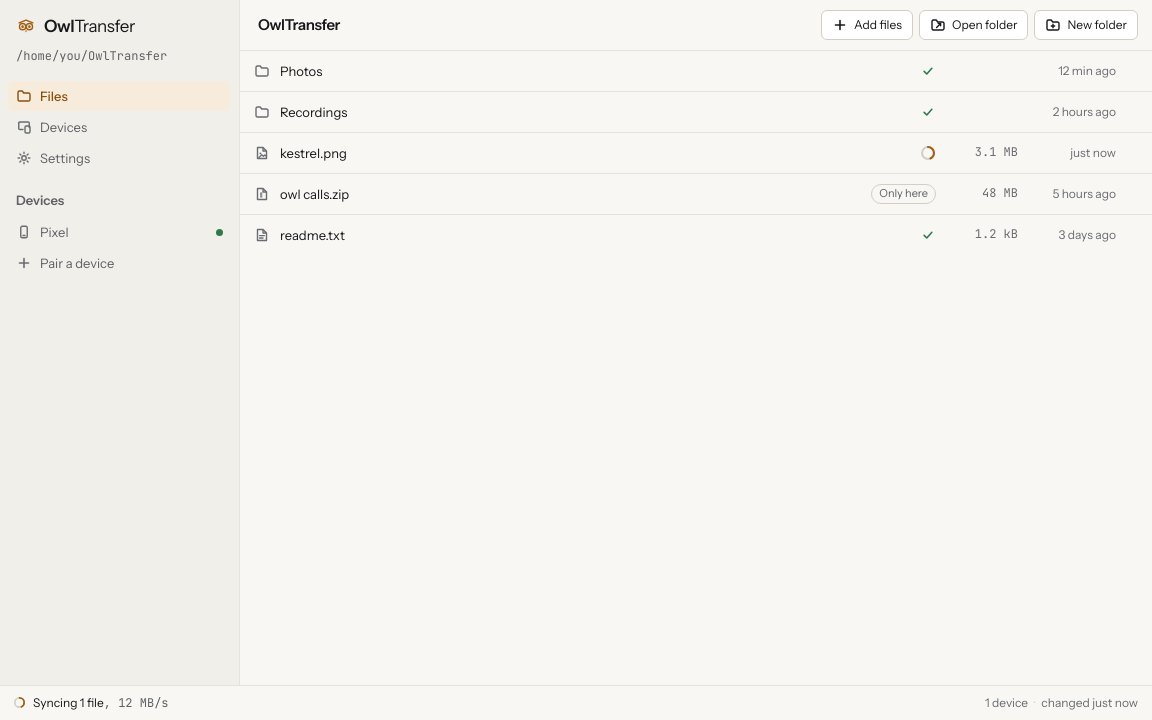
it: the settings pane › puts an emptied name back rather than saving nothing
The width and height of the screenshot is (1152, 720).
Click the button "Settings". click: (120, 158)
box: [8, 143, 231, 173]
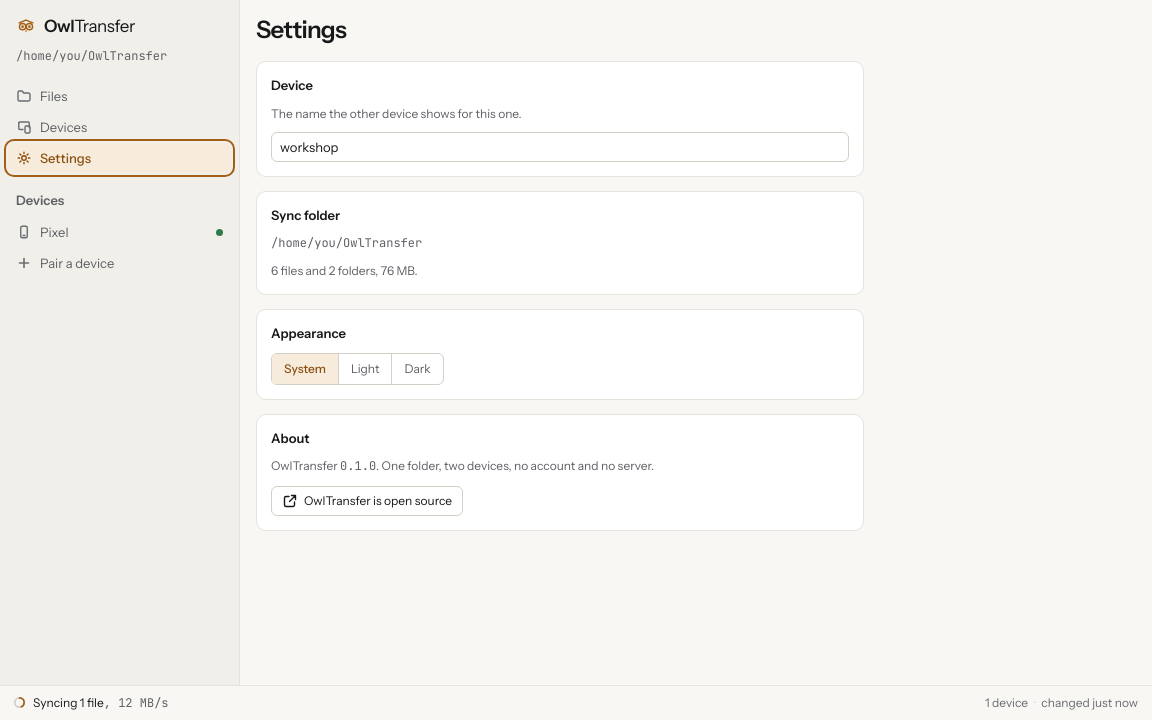
expect the heading "Settings" is shown: met, box [256, 15, 346, 44]
Clear the field named "Device name". click: (560, 147)
box: [271, 132, 849, 162]
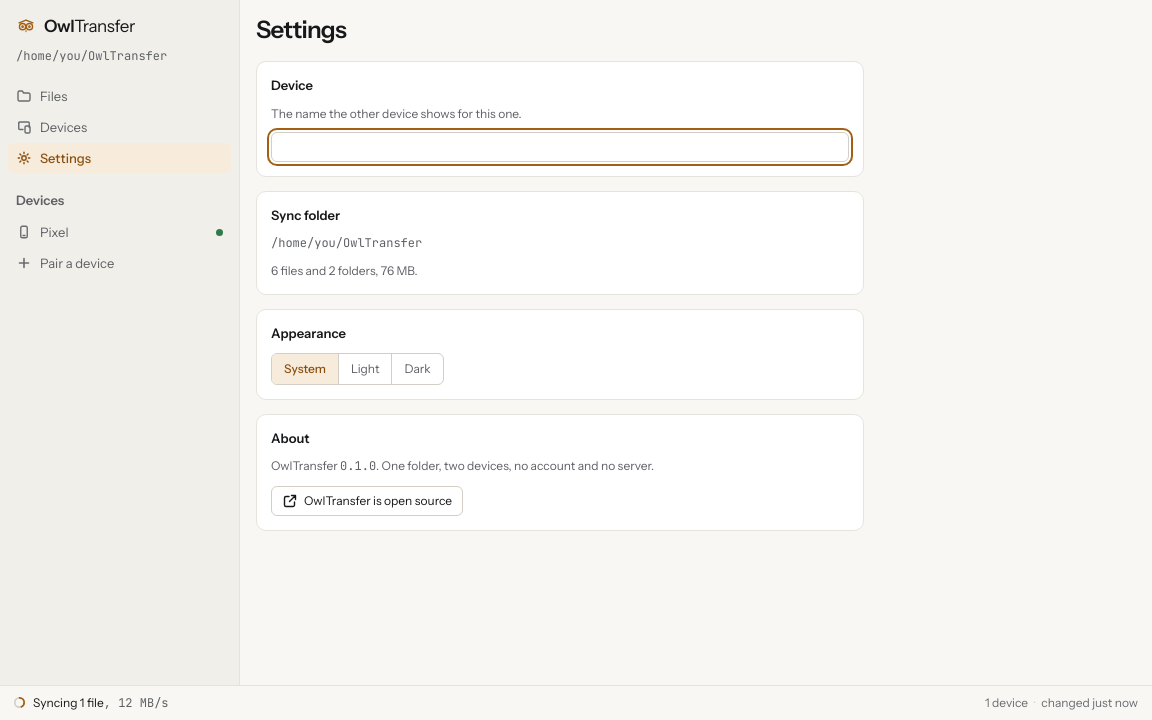
Press Tab
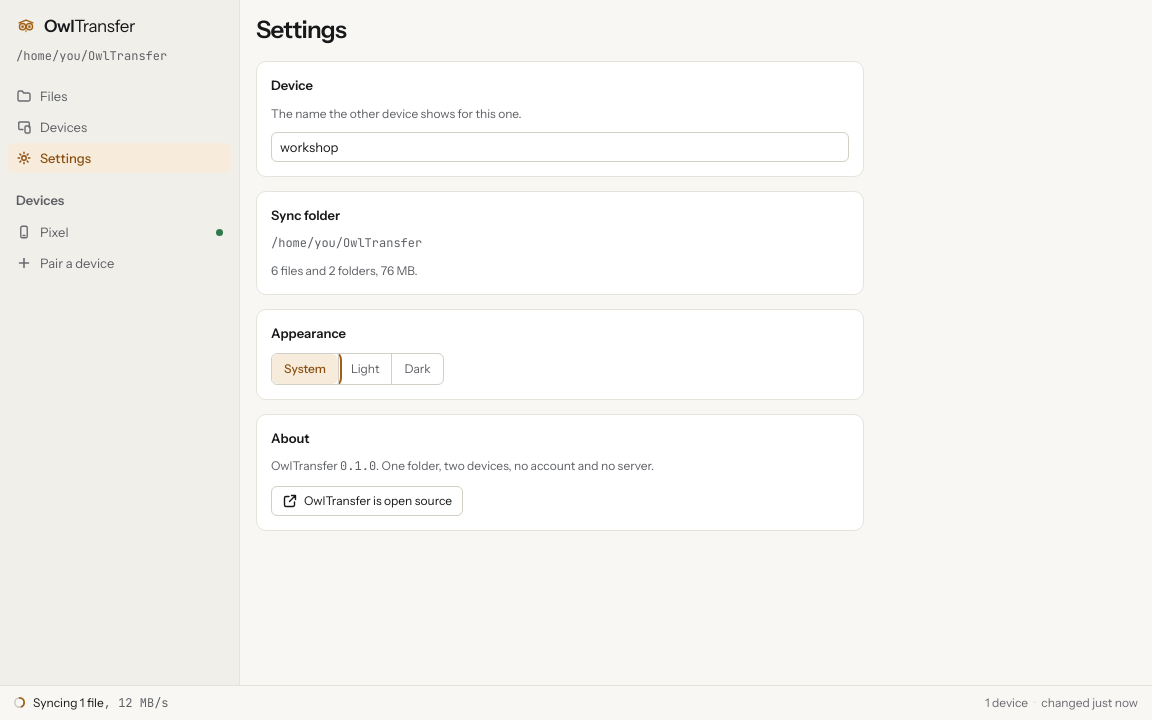
expect the field named "Device name" holds "workshop": met, box [271, 132, 849, 162]
